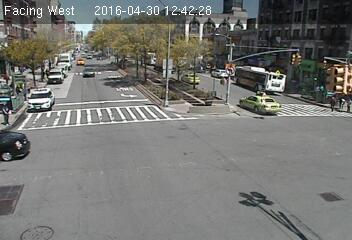neg: (148, 159, 184, 206), (81, 76, 109, 113), (249, 87, 275, 122), (240, 180, 266, 214), (319, 180, 344, 213), (108, 128, 132, 161), (60, 150, 84, 181), (199, 87, 221, 117), (282, 40, 304, 69), (16, 58, 35, 84), (157, 64, 176, 89), (10, 181, 29, 205), (226, 44, 244, 68), (130, 39, 146, 61), (84, 47, 98, 65)
pos: (1, 103, 17, 125), (324, 94, 338, 112)
